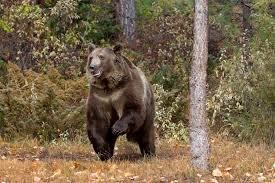bear: (86, 43, 157, 160)
